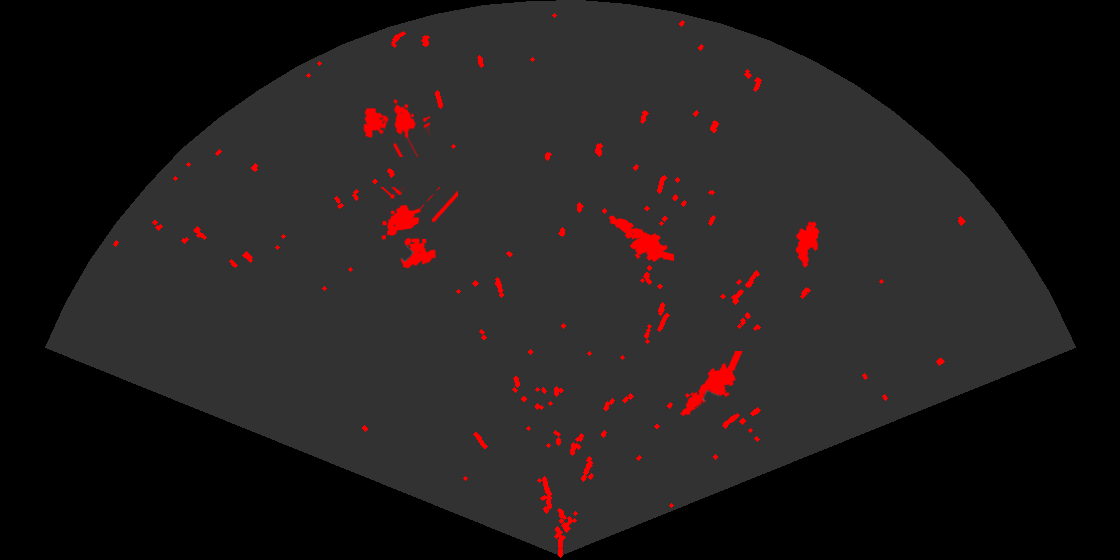AUV: (794, 220, 821, 269)
cage: (379, 187, 458, 270), (362, 97, 430, 157)
frogman: (680, 351, 744, 417), (607, 214, 674, 263)
